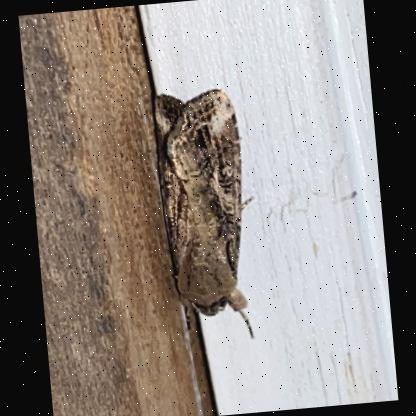Fall Armyworm Moth: (146, 83, 268, 349)
